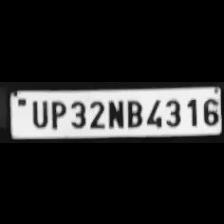1: (182, 94, 200, 126)
2: (87, 97, 105, 128)
3: (66, 97, 86, 128), (163, 95, 181, 127)
4: (144, 95, 162, 127)
6: (198, 94, 220, 125)
B: (124, 96, 142, 128)
N: (104, 96, 124, 128)
P: (48, 97, 66, 128)
U: (28, 96, 48, 128)
